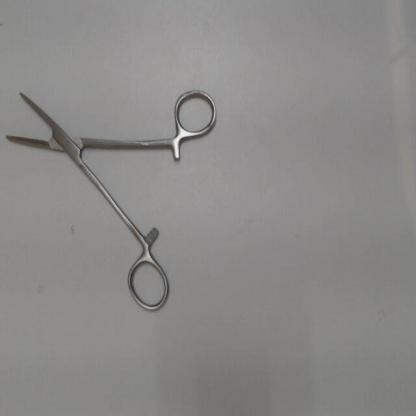Mayo Needle Holder: (2, 76, 222, 319)
